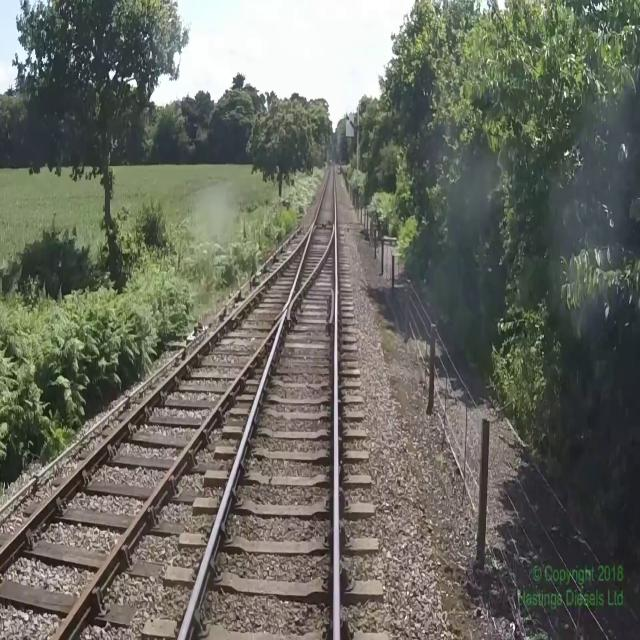rail-track: (0, 229, 311, 639), (183, 164, 335, 639)
